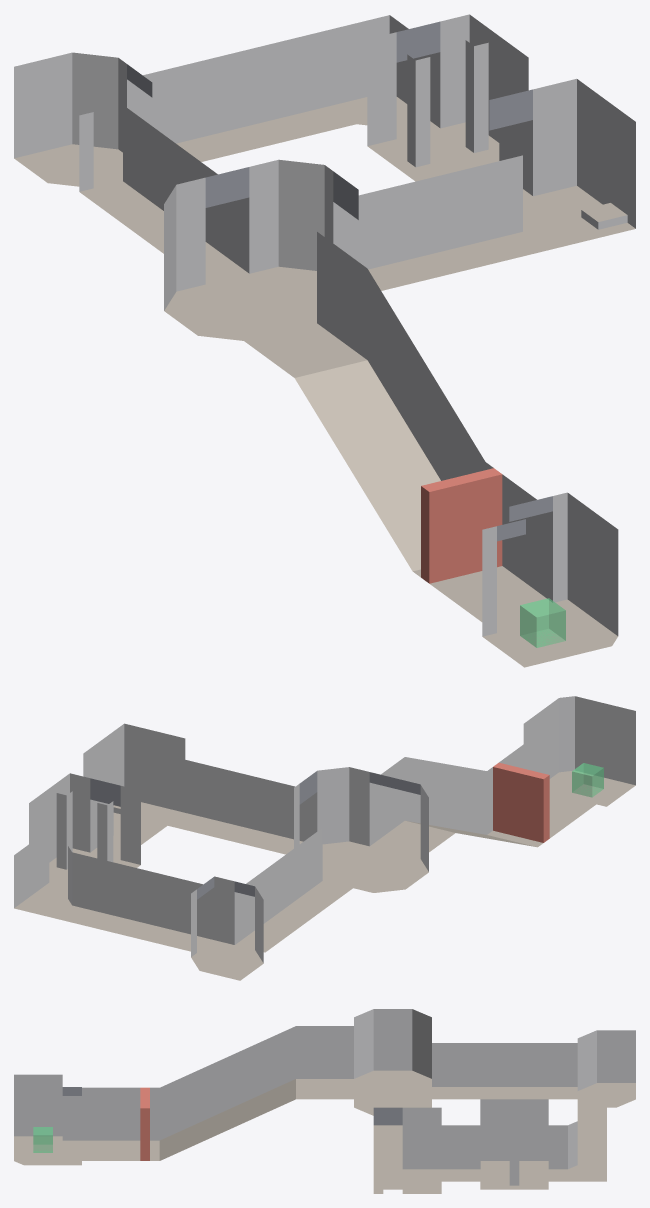
The model's file is habitat_01.glb.
3 renders of one model, top to bottom at view 1: azimuth 30°, elevation 25°; view 2: azimuth 150°, elevation 25°; view 3: azimuth 270°, elevation 25°, orthographic. The views are drawn at different scales.
Parts seen in each view (by area): view 1: corridor:3, corridor:1, room:1, corridor:2, room:3, room:2, room:0, corridor:0, entities; view 2: corridor:3, corridor:1, room:1, room:2, corridor:2, room:3, corridor:0, entities, room:0; view 3: corridor:1, corridor:3, corridor:0, room:1, room:2, room:3, room:0, corridor:2, entities.
Part boxes in pixels (x1,y1,x2,y2): corridor:3: [127, 14, 532, 198]; corridor:1: [244, 232, 552, 632]; room:1: [164, 159, 358, 340]; corridor:2: [333, 155, 547, 290]; room:3: [489, 78, 635, 250]; room:2: [482, 492, 618, 667]; room:0: [14, 52, 152, 188]; corridor:0: [79, 105, 249, 284]; entities: [421, 468, 565, 647]; corridor:3: [14, 773, 214, 952]; corridor:1: [369, 737, 595, 858]; room:1: [294, 767, 428, 892]; room:2: [523, 696, 635, 807]; corridor:2: [168, 760, 317, 854]; room:3: [83, 723, 185, 842]; corridor:0: [234, 828, 352, 952]; entities: [493, 762, 603, 842]; room:0: [191, 876, 263, 980]; corridor:1: [62, 1026, 353, 1160]; corridor:3: [441, 1099, 606, 1189]; corridor:0: [432, 1043, 577, 1099]; room:1: [354, 1009, 431, 1115]; room:2: [14, 1074, 81, 1165]; room:3: [373, 1107, 441, 1193]; room:0: [577, 1030, 635, 1107]; corridor:2: [373, 1125, 402, 1169]; entities: [33, 1087, 149, 1160].
Size of the model in its own units: 30 by 14 by 64.
